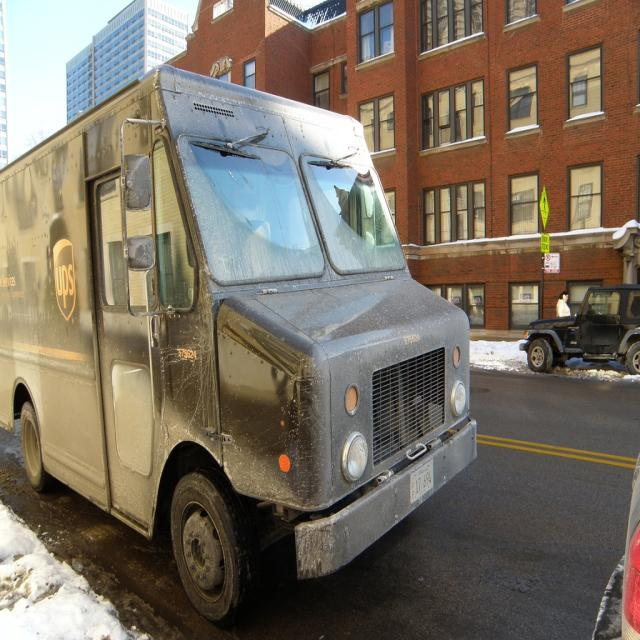ups: (54, 239, 78, 323)
